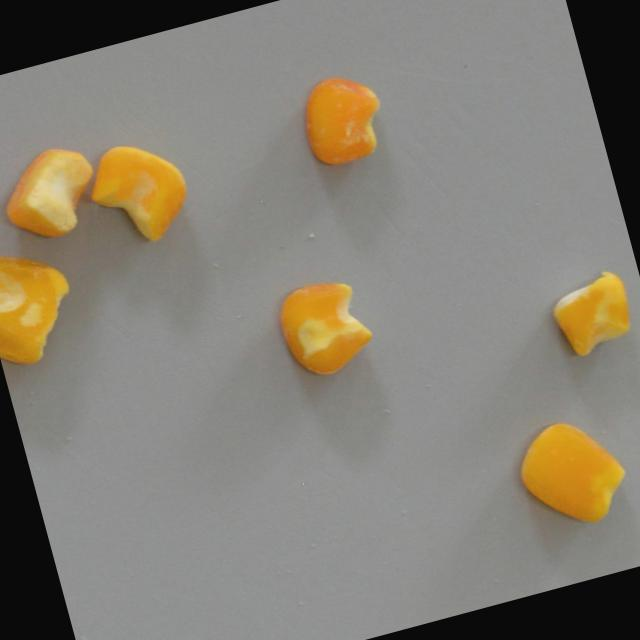no_canjicado: (507, 409, 637, 539), (80, 132, 198, 255), (0, 230, 85, 373), (271, 273, 379, 385), (0, 139, 107, 248), (545, 270, 639, 363)
pelicula: (293, 68, 392, 173)
